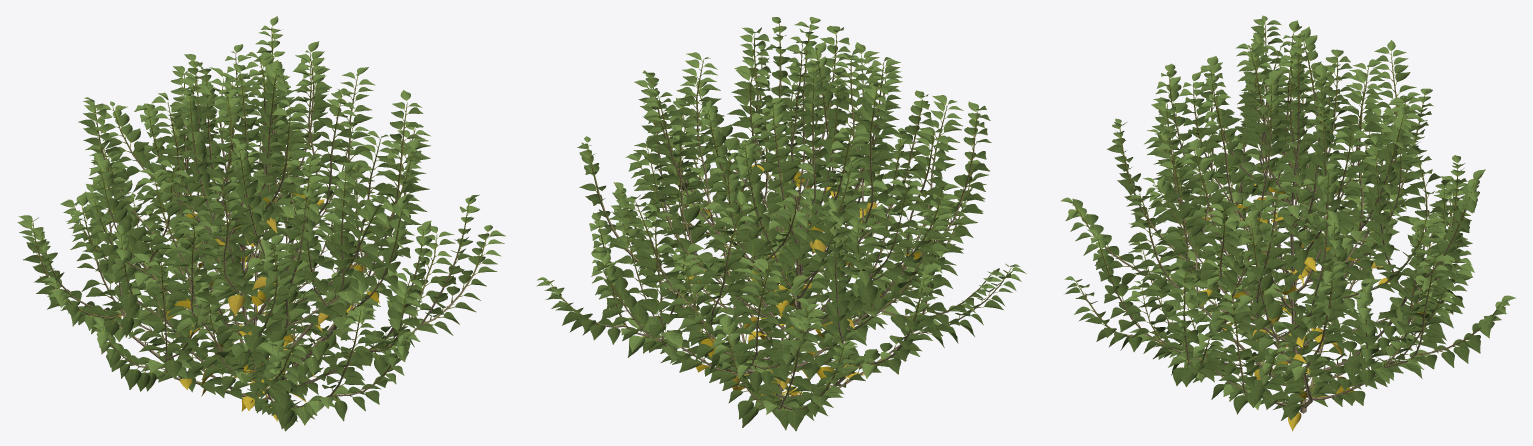
The model's file is Hedera helix 'Erecta' HD_Wild mat 50_LOD1.fbx.
3 views of the same model, side by side, from view 1: azimuth 30°, elevation 25°; view 2: azimuth 150°, elevation 25°; view 3: azimuth 270°, elevation 25° (orthographic). The views are drawn at different scales.
Visible parts, largest first — view 1: Hedera_helix__Erecta__HD; view 2: Hedera_helix__Erecta__HD; view 3: Hedera_helix__Erecta__HD.
Boxes of the visible parts, x1=… form: Hedera_helix__Erecta__HD: x1=17, y1=16, x2=505, y2=431; Hedera_helix__Erecta__HD: x1=536, y1=17, x2=1026, y2=431; Hedera_helix__Erecta__HD: x1=1061, y1=15, x2=1515, y2=431.
Bounding box in the file's own units: 0.9414 × 0.7951 × 0.8984.
10 materials, 10 textured.
